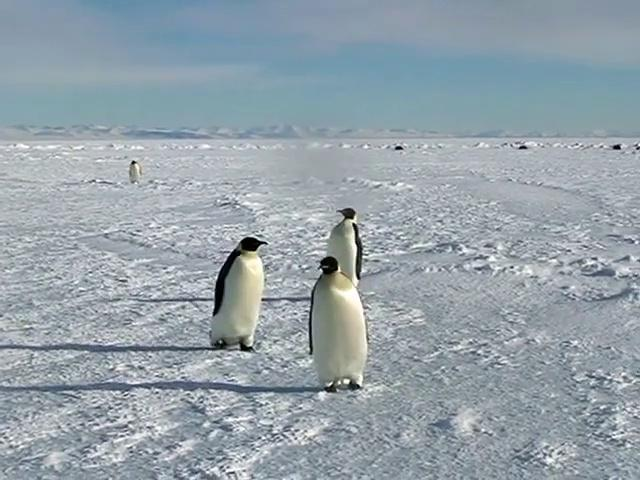animal: (329, 209, 364, 287)
